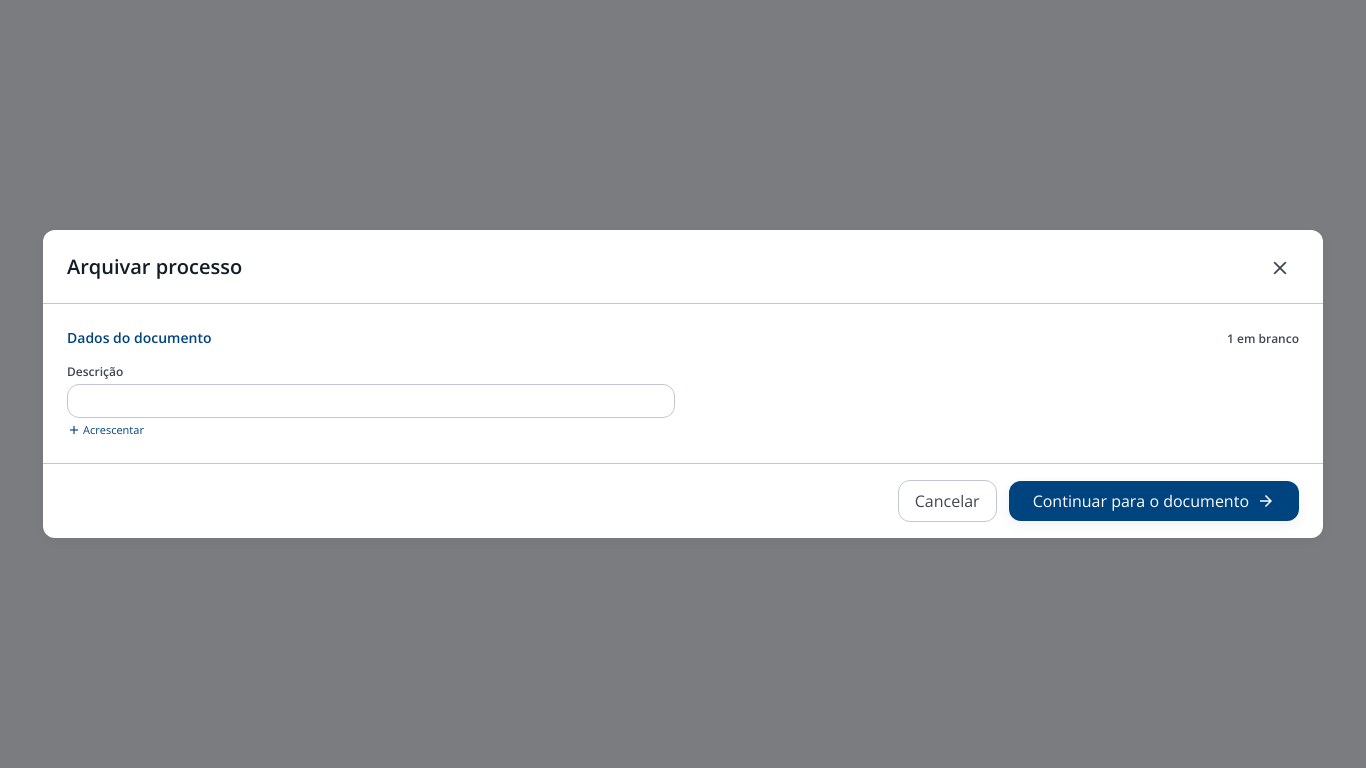
Test: DespachoModal - contexto e quantidade livre de valores › permite remover um valor acrescentado
Step 1. Type "piso irregular" into the text box labelled "Descrição" → coordinates (371, 401), box [67, 384, 675, 418]
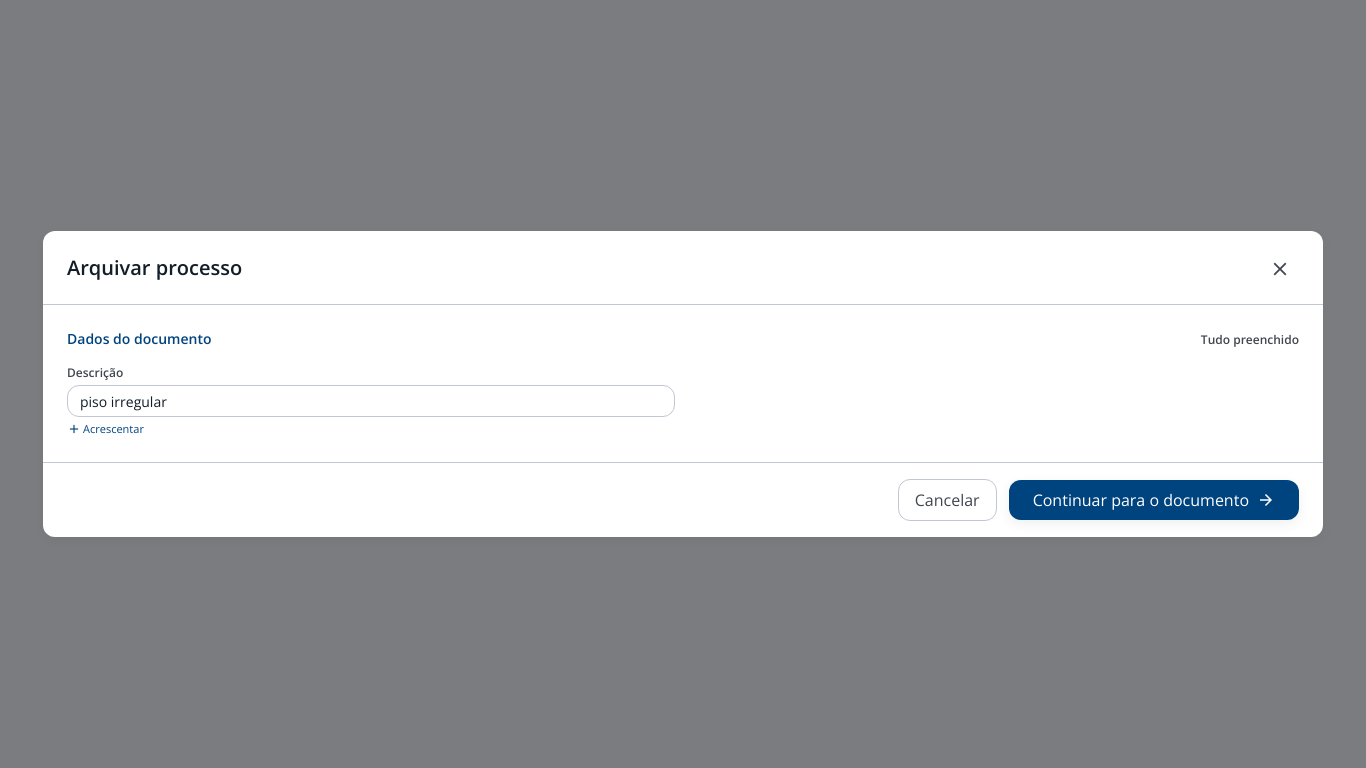
Step 2. Click the button "Acrescentar" → coordinates (105, 429), box [67, 421, 144, 438]
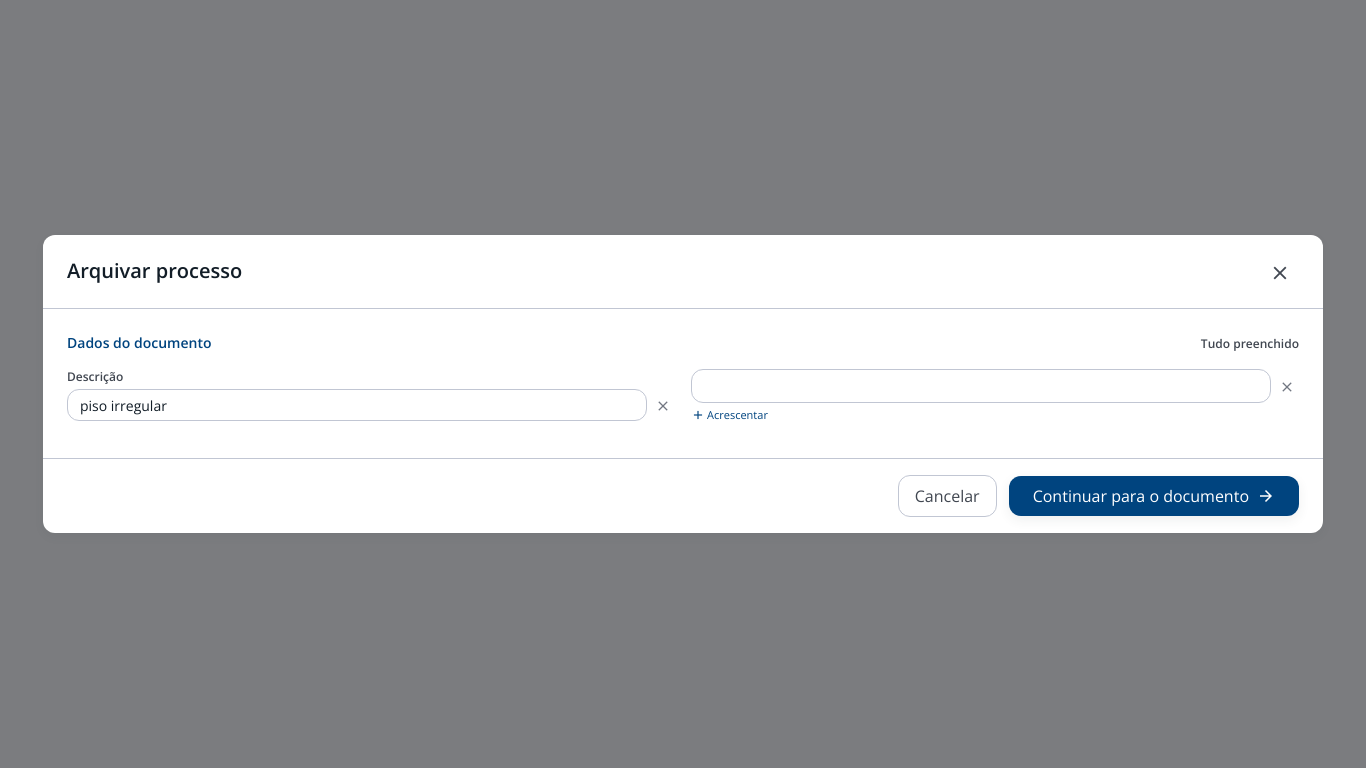
Step 3. Type "extintor vencido" into the text box named "descrição — valor 2" → coordinates (981, 386), box [691, 369, 1271, 403]
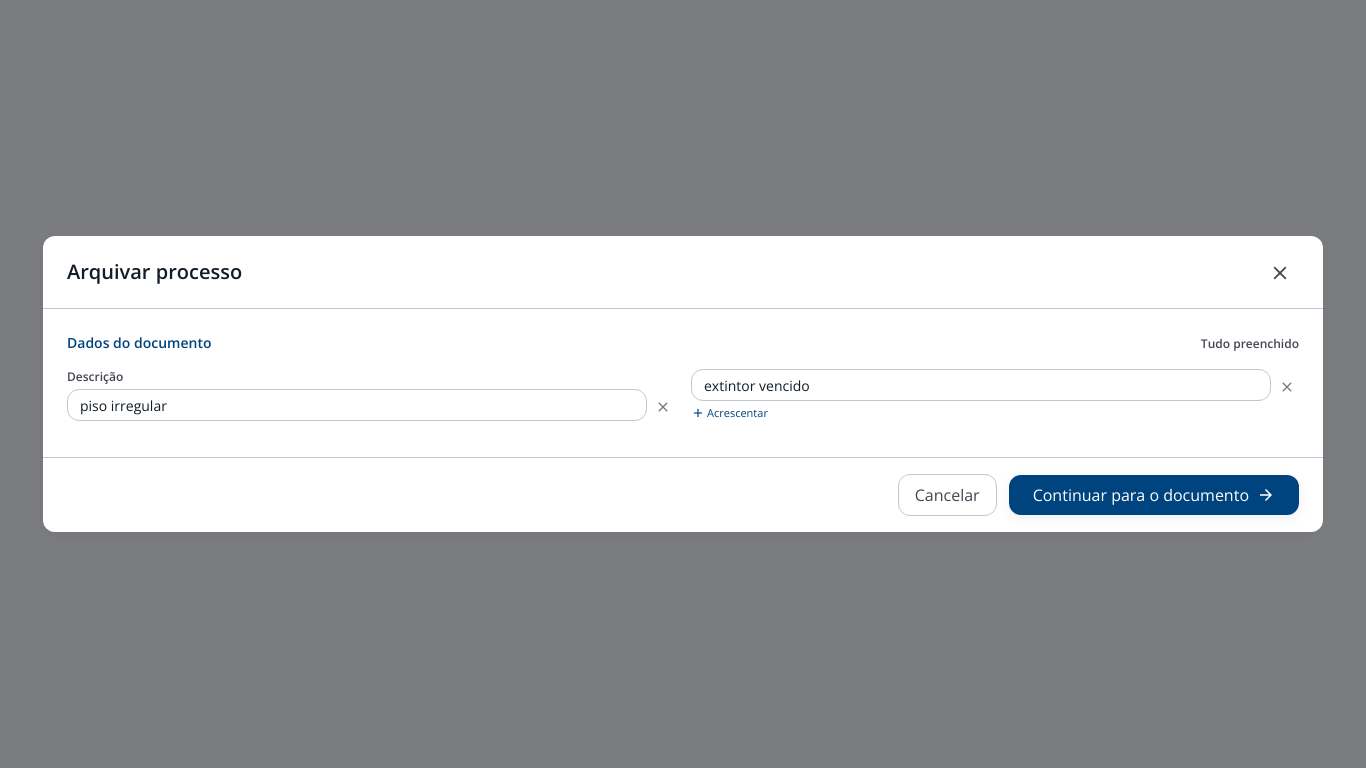
Step 4. Click the button named "Remover valor 2" → coordinates (1287, 385), box [1275, 369, 1299, 401]
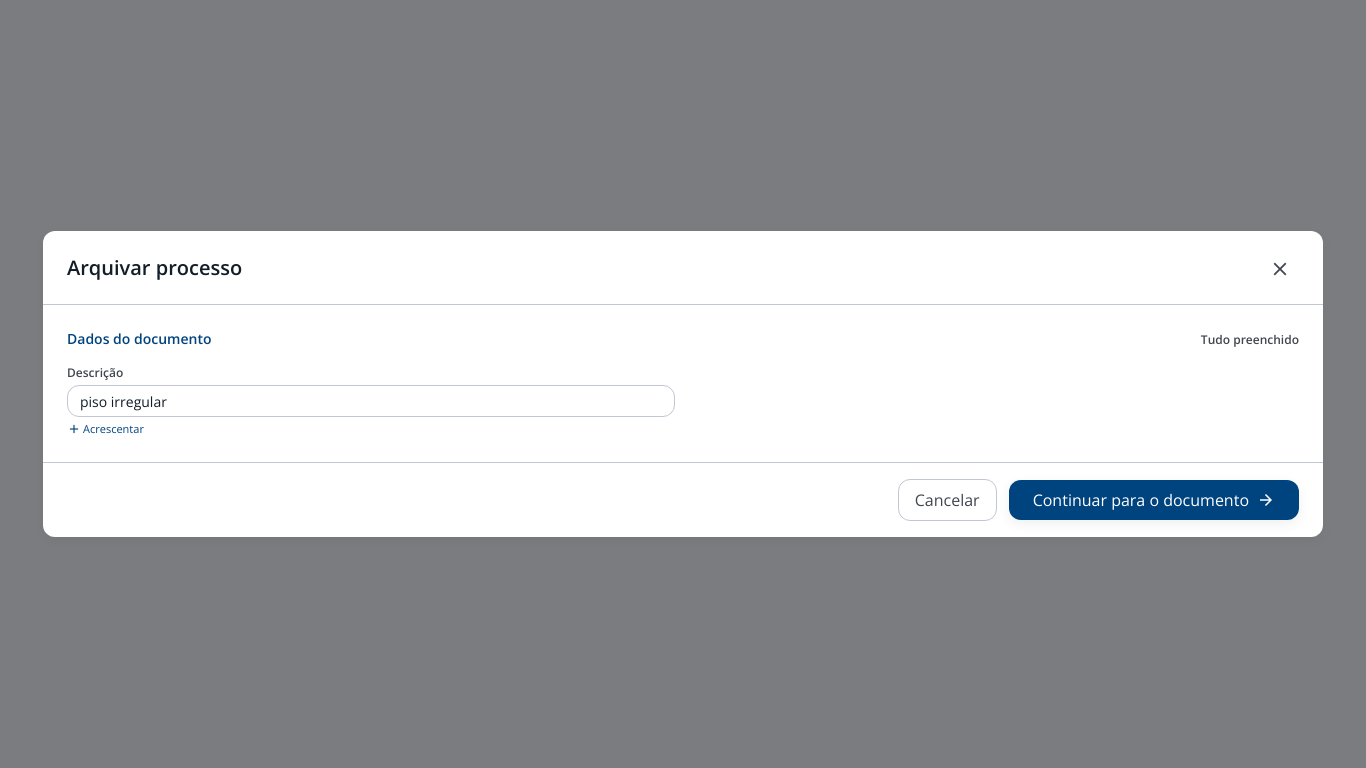
Step 5. Click the button "Continuar para o documento" → coordinates (1154, 500), box [1009, 480, 1299, 520]
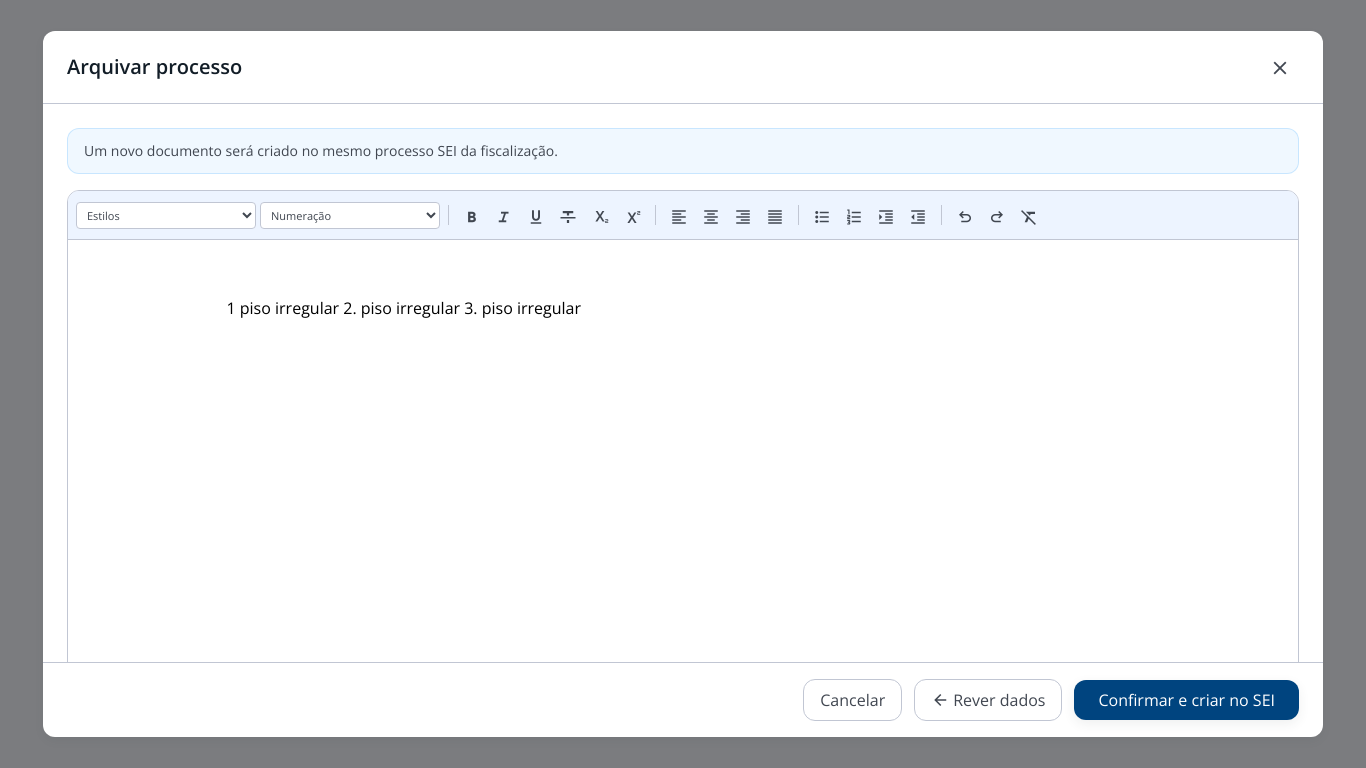
Expected: the field labelled "Editor do documento" does not show "extintor vencido"
Expected: the text box named "Editor do documento" shows "1 piso irregular", [68, 240, 1298, 662]
